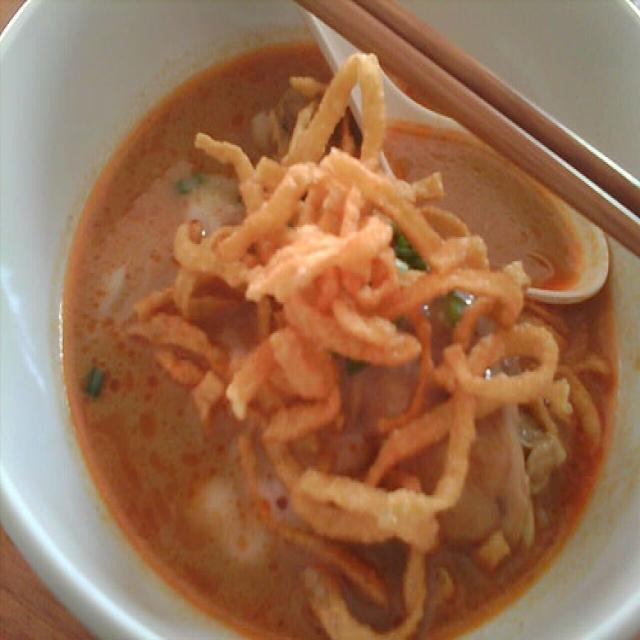面条主食: (22, 31, 627, 633)
